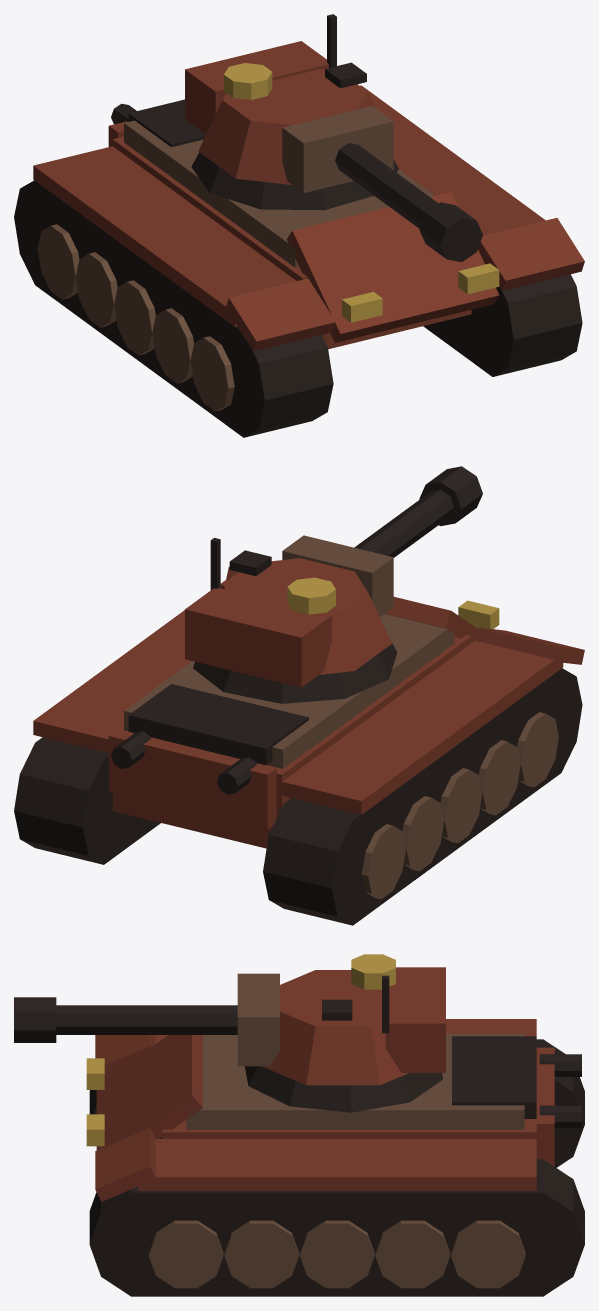
Rendered from enemy_tank.glb.
3 renders of one model, top to bottom at view 1: azimuth 30°, elevation 25°; view 2: azimuth 150°, elevation 25°; view 3: azimuth 270°, elevation 25°, orthographic.
Visible parts, largest first — view 1: hull, turret; view 2: hull, turret; view 3: hull, turret.
Part boxes in pixels (x1,y1,x2,y2): hull: (14,85,584,437); turret: (185,14,482,262); hull: (14,566,584,925); turret: (185,466,482,703); hull: (86,1019,584,1296); turret: (14,954,445,1112).
Bounding box in the file's own units: 0.624 × 0.4951 × 0.945.
